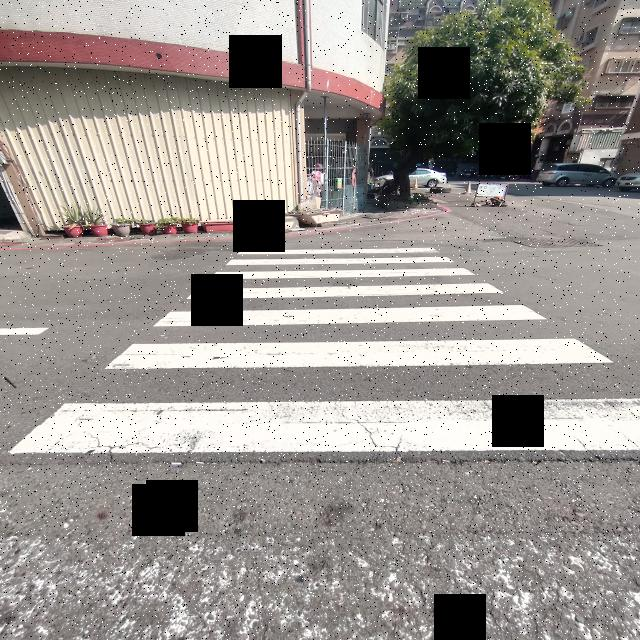zebra crossing: (0, 247, 640, 463)
